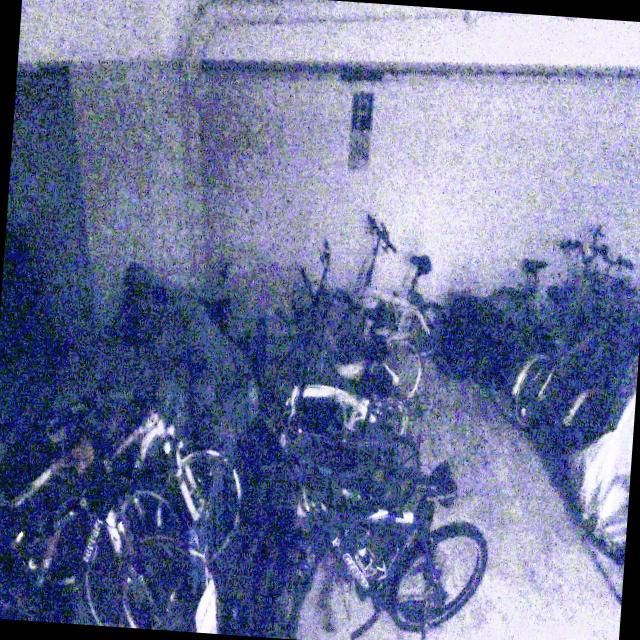bike: (11, 377, 249, 582), (256, 446, 492, 640), (286, 238, 433, 403), (476, 228, 624, 381), (330, 211, 453, 366)
